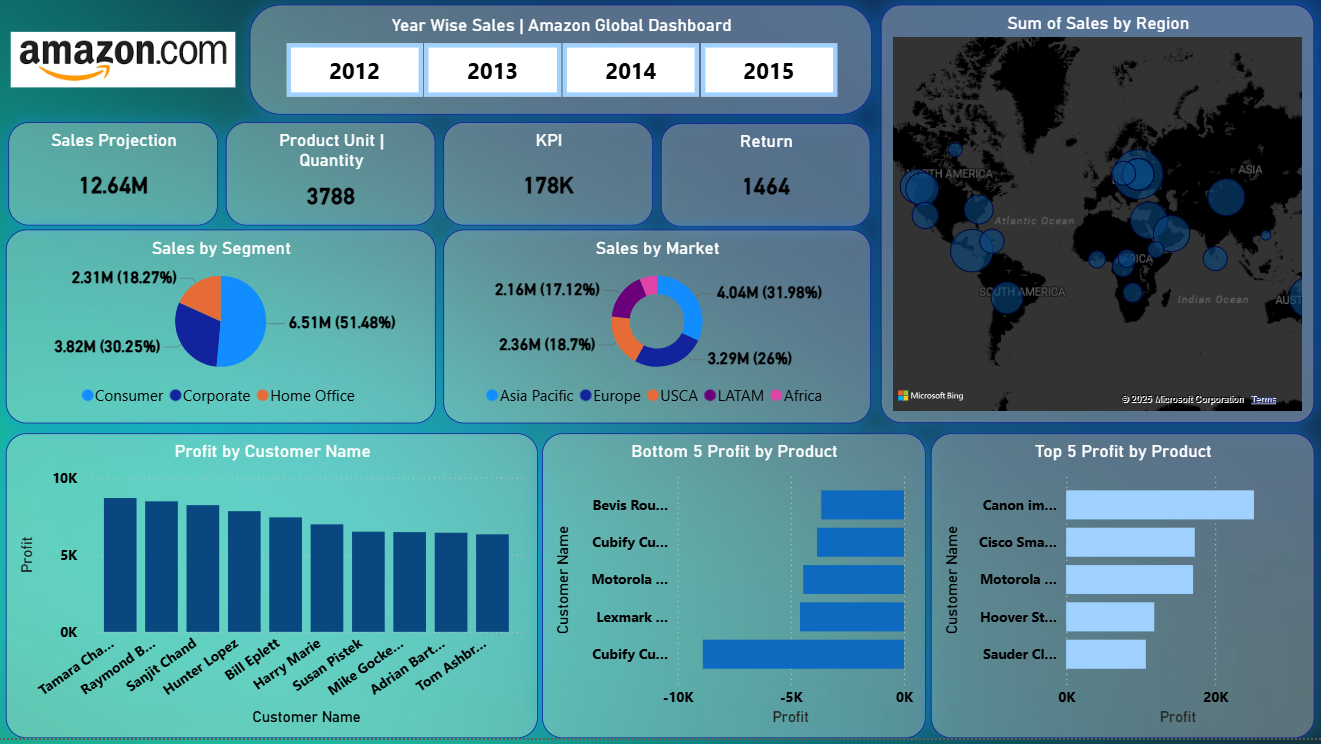

What the dashboard file says about the page in this screenshot:
{"tool":"powerbi","page":{"name":"Page 1","canvas":[1280,720],"ordinal":0},"visuals":[{"type":"slicer","title":"Year Wise Sales | Amazon Global Dashboard","fields":{"Values":["Orders.Year"]},"box":[243.7,12.1,600.8,106.2],"z":0},{"type":"image","box":[8.4,12.1,219.6,106.2],"z":1000},{"type":"card","title":"Sales Projection","fields":{"Values":["Orders.Sales"]},"box":[10.9,125.5,202.7,100.1],"z":2000},{"type":"card","title":"Product Unit | Quantity","fields":{"Values":["Orders.Product Name"]},"box":[220.8,125.5,202.7,100.1],"z":3000},{"type":"card","title":"KPI","fields":{"Values":["Orders.Quantity"]},"box":[430.7,125.5,202.7,100.1],"z":4000},{"type":"card","title":"Return","fields":{"Values":["Orders.Ship Date"]},"box":[640.6,126.7,202.7,100.1],"z":5000},{"type":"pieChart","title":"Sales by Segment","fields":{"Y":["Orders.Sales"],"Category":["Orders.Segment"]},"box":[8.4,229.2,415,187],"z":6000},{"type":"donutChart","title":"Sales by Market","fields":{"Y":["Orders.Sales"],"Category":["Orders.Market"]},"box":[430.7,229.2,412.6,187],"z":7000},{"type":"columnChart","title":"Profit by Customer Name","fields":{"Category":["Orders.Customer Name"],"Y":["Orders.Profit"]},"box":[8.4,425.9,513.9,294.4],"z":8000},{"type":"clusteredBarChart","title":"Bottom 5 Profit by Product","fields":{"Category":["Orders.Product Name"],"Y":["Orders.Profit"]},"box":[526,425.6,370.4,294.4],"z":9000},{"type":"clusteredBarChart","title":"Top 5 Profit by Product","fields":{"Y":["Orders.Profit"],"Category":["Orders.Product Name"]},"box":[901.2,425.6,370.4,294.4],"z":10000},{"type":"map","fields":{"Category":["Orders.Region"],"Size":["Orders.Sales"]},"box":[853,12.1,418.6,404.2],"z":11000}]}

Visuals, with their boxes in screenshot pixels (x1, y1, x2, y2), scaled from the page's 1280x720 canvas onto the 1321x744 screenshot:
"Year Wise Sales | Amazon Global Dashboard" slicer: crop(252, 13, 872, 122)
image: crop(9, 13, 235, 122)
"Sales Projection" card: crop(11, 130, 220, 233)
"Product Unit | Quantity" card: crop(228, 130, 437, 233)
"KPI" card: crop(444, 130, 654, 233)
"Return" card: crop(661, 131, 870, 234)
"Sales by Segment" pieChart: crop(9, 237, 437, 430)
"Sales by Market" donutChart: crop(444, 237, 870, 430)
"Profit by Customer Name" columnChart: crop(9, 440, 539, 743)
"Bottom 5 Profit by Product" clusteredBarChart: crop(543, 440, 925, 743)
"Top 5 Profit by Product" clusteredBarChart: crop(930, 440, 1312, 743)
map - Orders.Region x Orders.Sales: crop(880, 13, 1312, 430)
